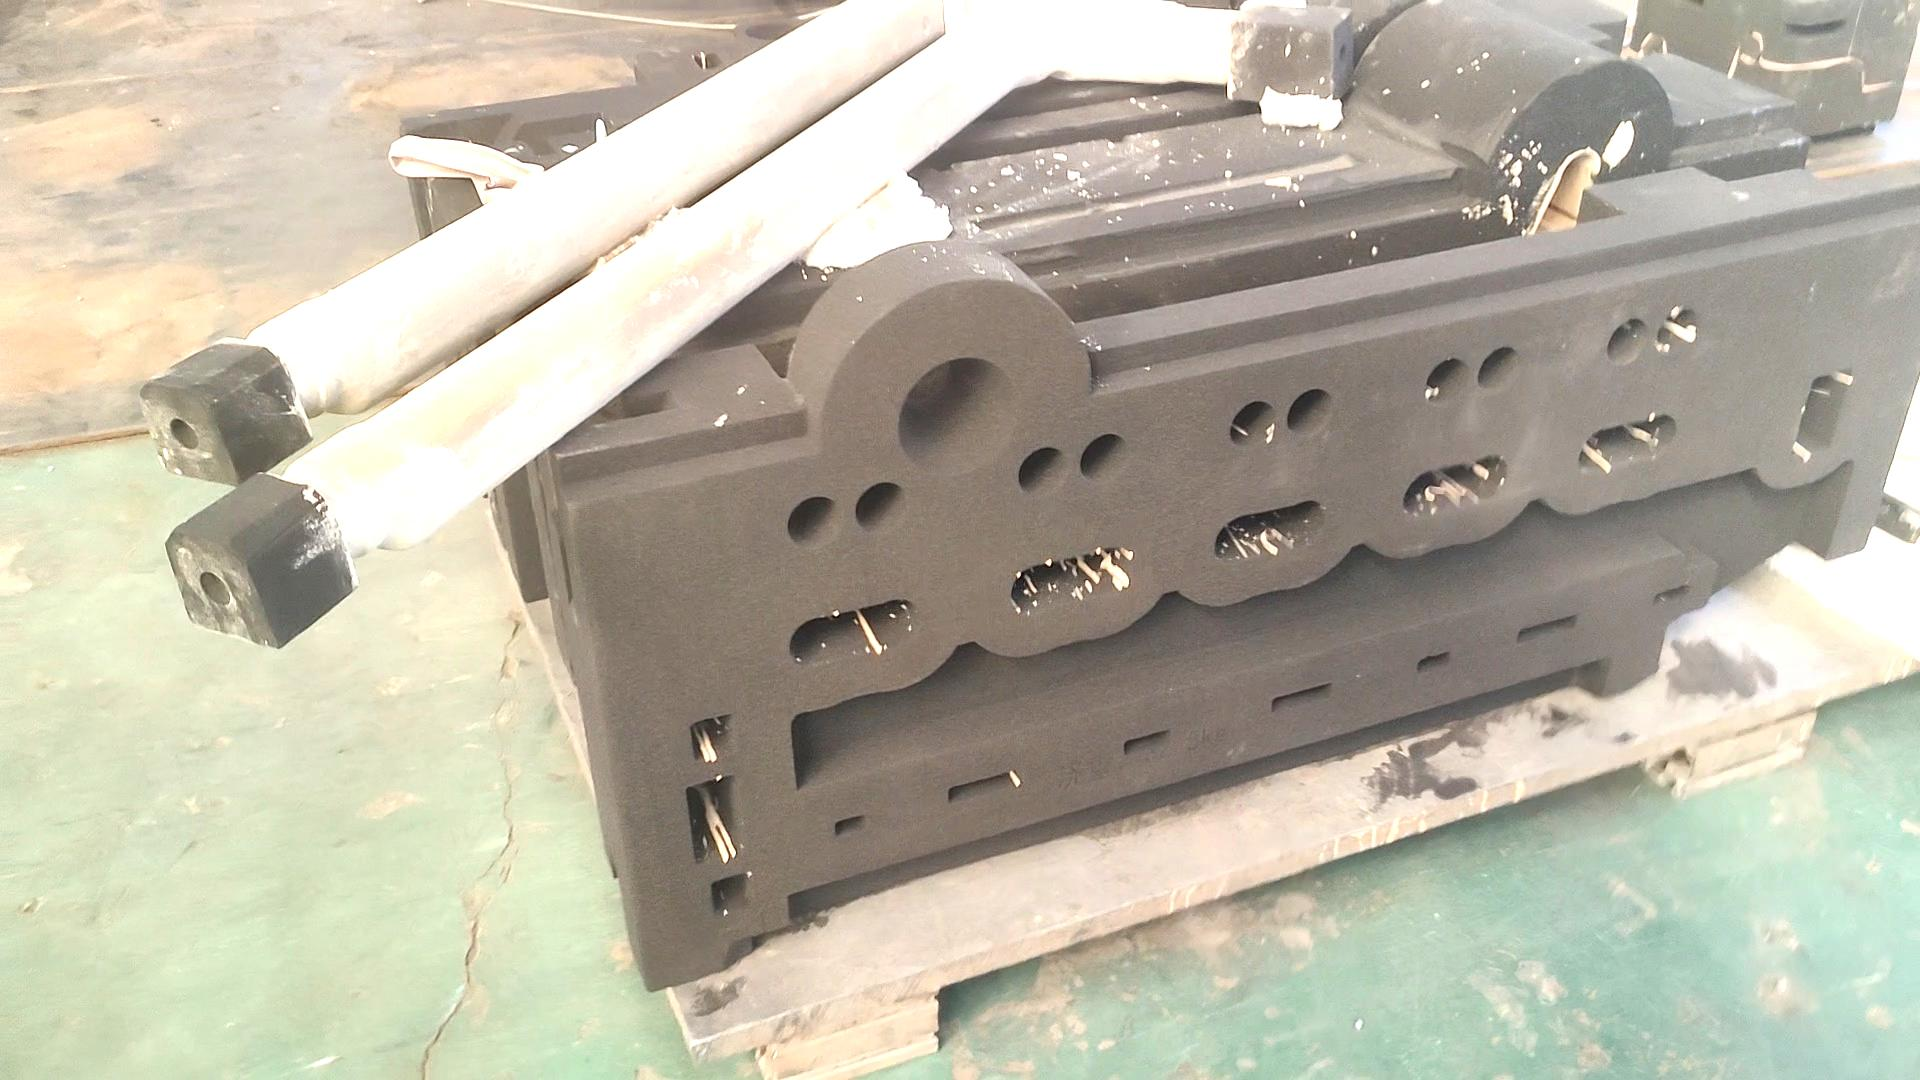pouring hole: (897, 356, 1018, 477), (744, 18, 796, 40)
